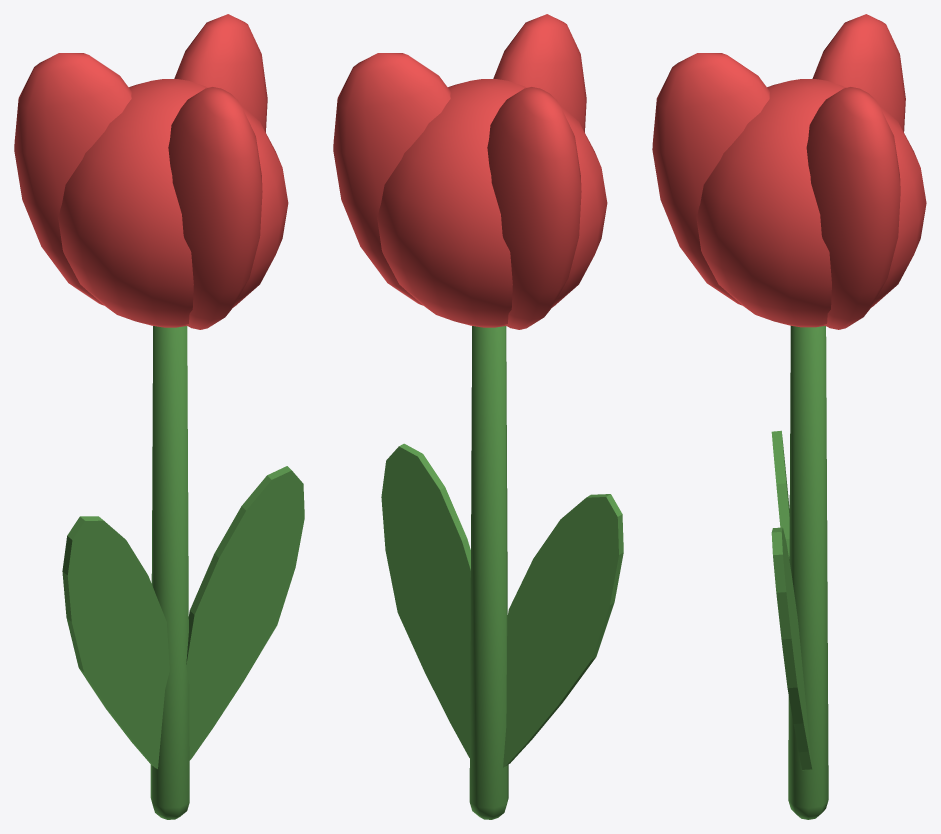
The model's file is flower-tulip.glb.
The picture shows the model from 3 angles, left to right: view 1: azimuth 30°, elevation 25°; view 2: azimuth 150°, elevation 25°; view 3: azimuth 270°, elevation 25°; orthographic projection.
Visible parts, largest first — view 1: flower; view 2: flower; view 3: flower.
Part boxes in pixels (left/top/right/bottom): flower: left=14, top=14, right=304, bottom=819; flower: left=333, top=14, right=623, bottom=819; flower: left=652, top=14, right=926, bottom=819.
Size of the model in its own units: 0.1656 by 0.4994 by 0.1624.
